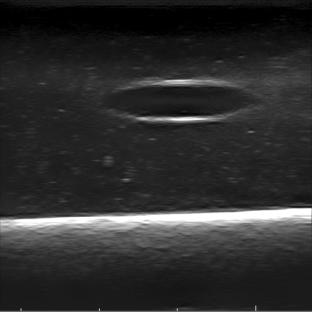vessel: (105, 78, 255, 123)
